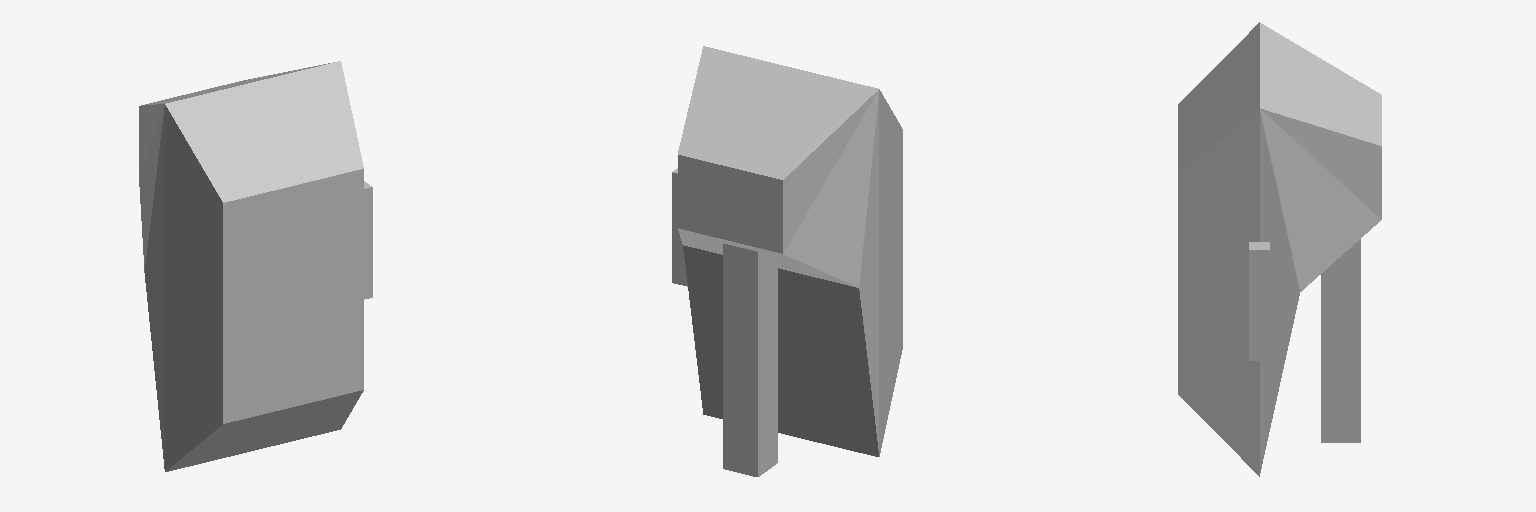
The model's file is heavytank2-y-z.obj.
3 renders of one model, left to right at view 1: azimuth 30°, elevation 25°; view 2: azimuth 150°, elevation 25°; view 3: azimuth 270°, elevation 25°, orthographic.
Visible parts, largest first — view 1: Cube; view 2: Cube; view 3: Cube.
Part boxes in pixels (bbox=[...]): Cube: bbox=[139, 61, 372, 471]; Cube: bbox=[672, 46, 902, 476]; Cube: bbox=[1178, 22, 1381, 476].
Size of the model in its own units: 1.15 by 2 by 1.